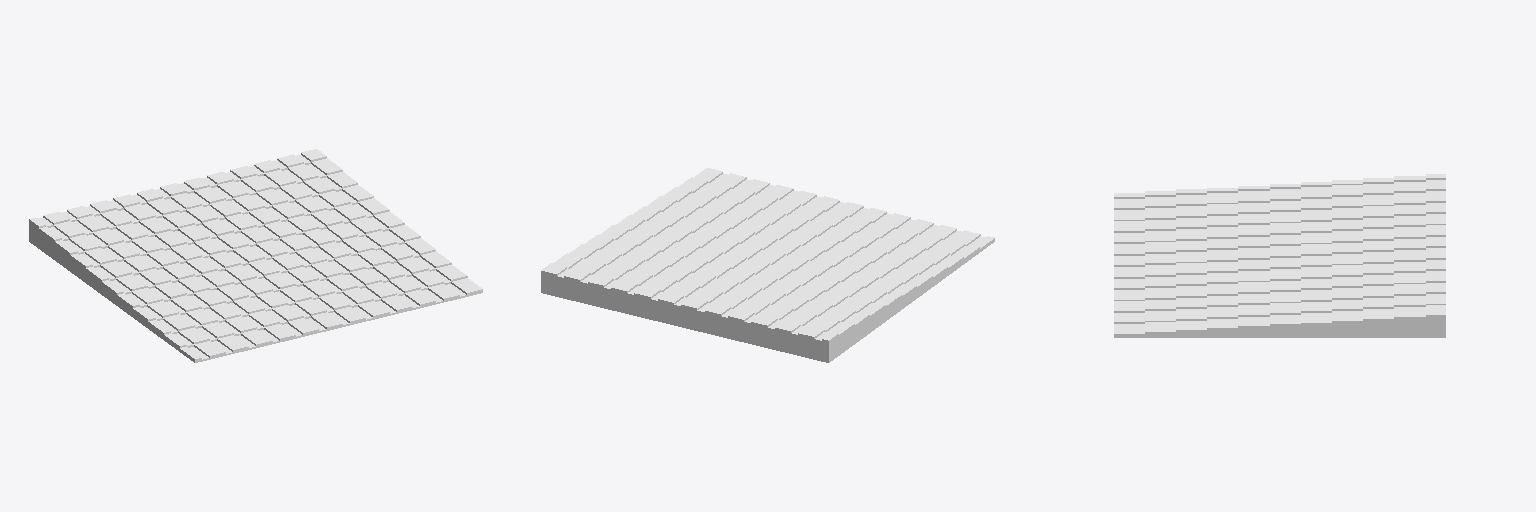
File: roof2-2-lod1.obj
3 views of the same model, side by side, from view 1: azimuth 30°, elevation 25°; view 2: azimuth 150°, elevation 25°; view 3: azimuth 270°, elevation 25° (orthographic).
Visible parts, largest first — view 1: lod1; view 2: lod1; view 3: lod1.
Boxes of the visible parts, box(x1,y1,x2,y2) form: lod1: box(29, 149, 482, 362); lod1: box(541, 168, 994, 362); lod1: box(1114, 174, 1445, 337).
Size of the model in its own units: 16 by 1.2 by 16.